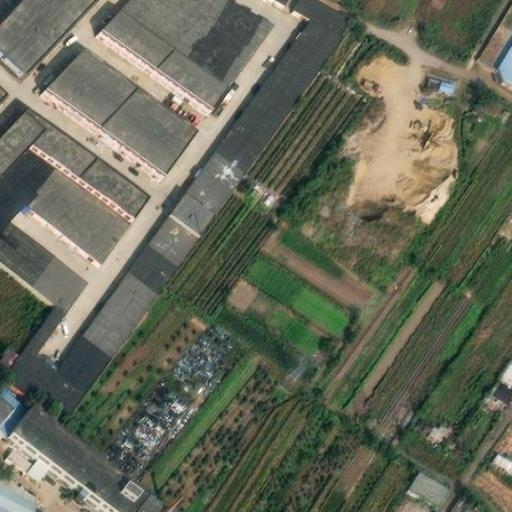building: (58, 205, 201, 385), (0, 141, 131, 305), (46, 38, 197, 165), (13, 401, 148, 512), (6, 298, 89, 414), (169, 144, 243, 227), (5, 432, 53, 477), (0, 476, 44, 512), (411, 464, 450, 500), (488, 352, 512, 400), (449, 489, 497, 512), (495, 35, 512, 84), (423, 73, 457, 96), (487, 449, 512, 473)
